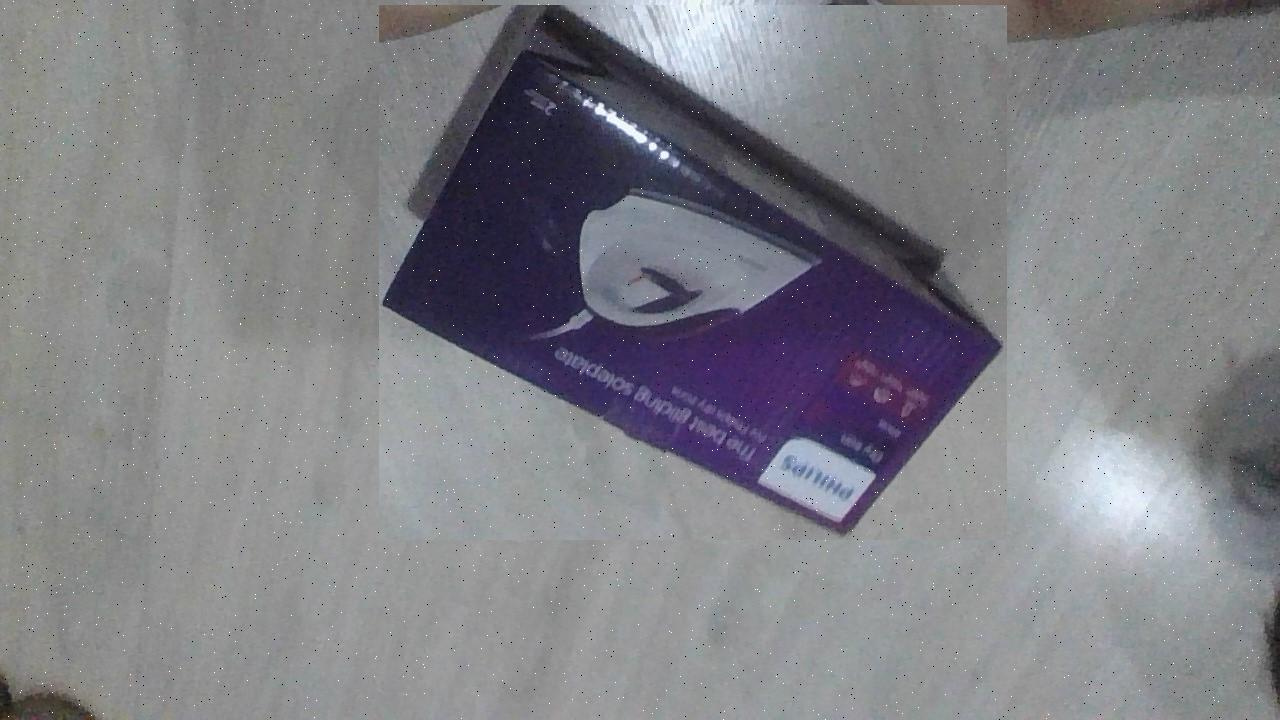IRON: (379, 5, 1007, 540)
